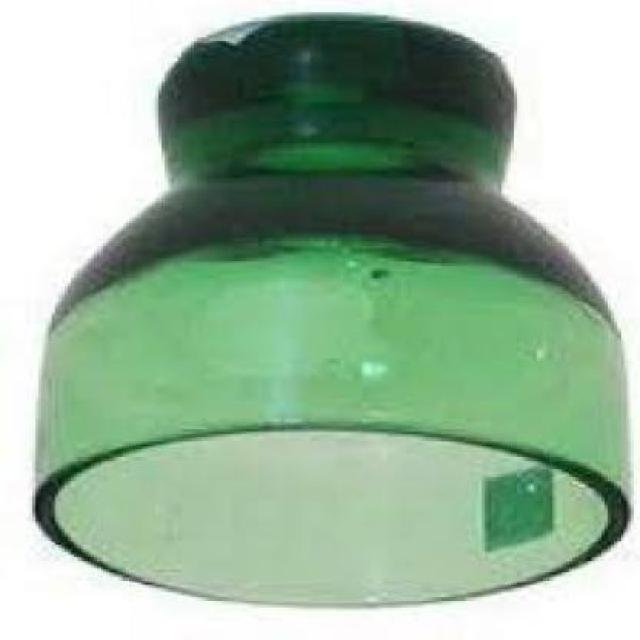GLASS: (33, 18, 627, 612)
